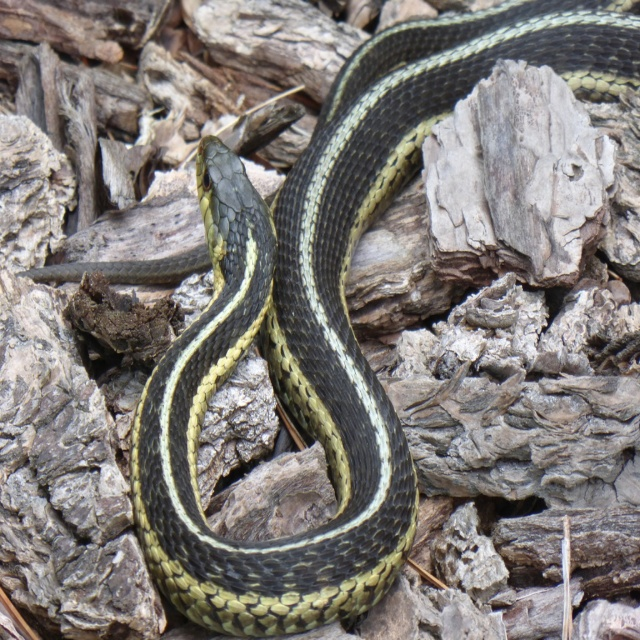Snake: (129, 0, 640, 638)
